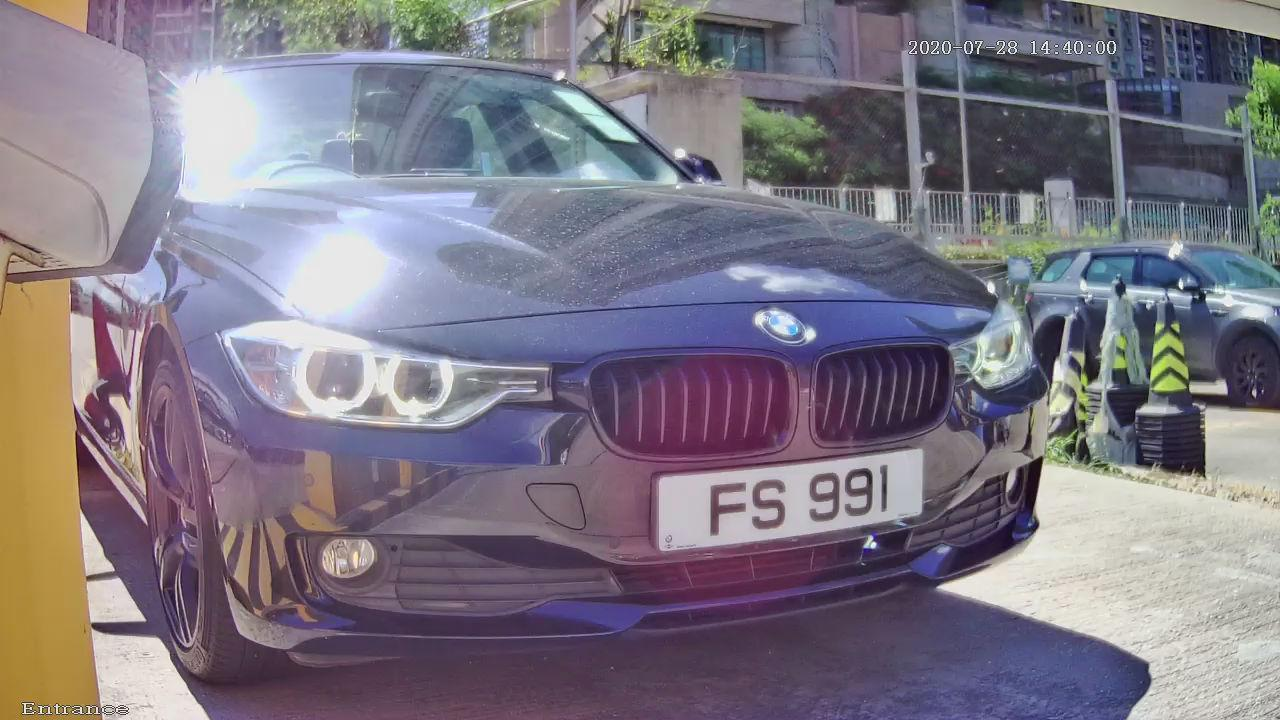privatecar: (29, 10, 1149, 711)
